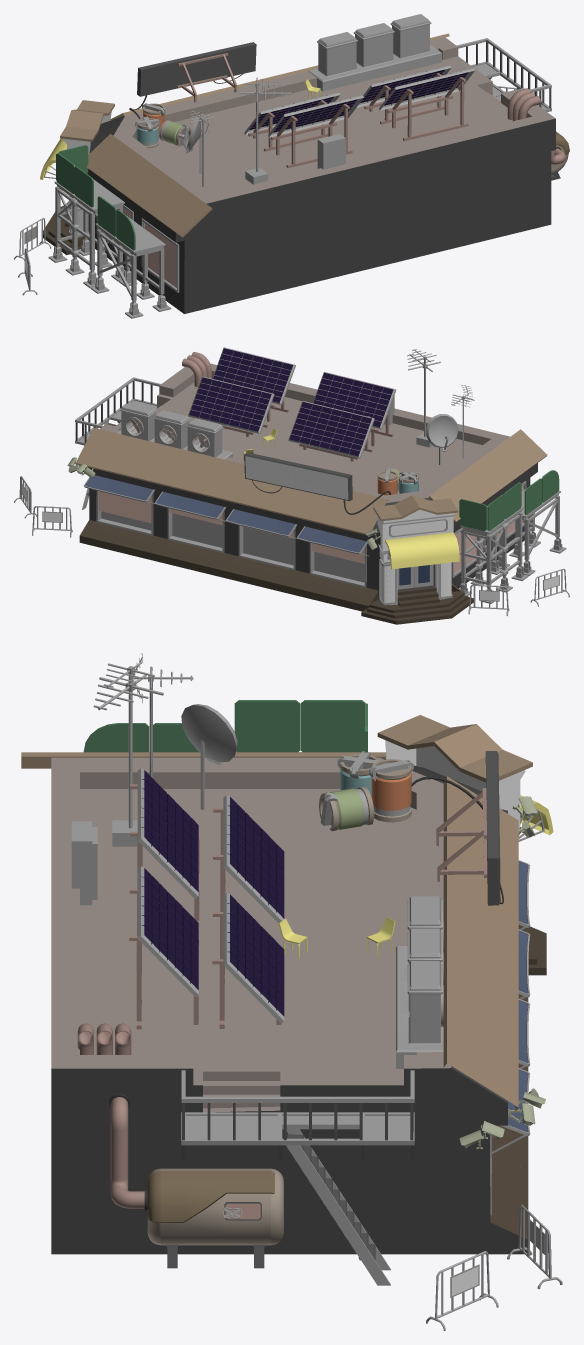
Rendered from Magazin.fbx.
3 views of the same model, one above another, from view 1: azimuth 30°, elevation 25°; view 2: azimuth 150°, elevation 25°; view 3: azimuth 270°, elevation 25° (orthographic). The views are drawn at different scales.
Visible parts, largest first — view 1: STORE, ventilation.002, scaffolding.002, scaffolding.001, billboard.002, Solar.003, Solar.002, stairs.004, Solar, Solar.001, electro, antenna.002 (+6 smaller); view 2: STORE, scaffolding.002, ventilation.002, Solar.001, Solar, billboard.002, Solar.002, Solar.003, scaffolding.001, Naves.001, stairs.004, Naves.004 (+14 smaller); view 3: STORE, cistern, stairs.004, ventilation.002, scaffolding.002, Solar.003, Solar, Solar.001, Solar.002, billboard.002, scaffolding.001, antenna.001 (+9 smaller).
Part boxes in pixels (bbox=[...]): STORE: bbox=[43, 33, 555, 313]; ventilation.002: bbox=[308, 14, 441, 91]; scaffolding.002: bbox=[48, 145, 124, 288]; scaffolding.001: bbox=[90, 196, 171, 318]; billboard.002: bbox=[129, 42, 256, 119]; Solar.003: bbox=[379, 68, 474, 141]; Solar.002: bbox=[268, 95, 363, 167]; stairs.004: bbox=[456, 38, 551, 111]; Solar: bbox=[356, 65, 451, 124]; Solar.001: bbox=[244, 92, 339, 151]; electro: bbox=[317, 134, 345, 169]; antenna.002: bbox=[240, 77, 291, 184]; STORE: bbox=[76, 363, 547, 624]; scaffolding.002: bbox=[459, 482, 528, 603]; ventilation.002: bbox=[116, 402, 232, 459]; Solar.001: bbox=[288, 401, 374, 461]; Solar: bbox=[188, 376, 274, 436]; billboard.002: bbox=[244, 452, 390, 514]; Solar.002: bbox=[313, 372, 396, 446]; Solar.003: bbox=[212, 347, 295, 421]; scaffolding.001: bbox=[498, 470, 566, 575]; Naves.001: bbox=[385, 532, 459, 569]; stairs.004: bbox=[75, 377, 160, 509]; Naves.004: bbox=[155, 491, 225, 521]; STORE: bbox=[21, 715, 546, 1254]; cistern: bbox=[109, 1093, 283, 1268]; stairs.004: bbox=[181, 1070, 414, 1285]; ventilation.002: bbox=[396, 896, 443, 1068]; scaffolding.002: bbox=[234, 700, 367, 752]; Solar.003: bbox=[129, 866, 198, 1029]; Solar: bbox=[212, 893, 284, 1028]; Solar.001: bbox=[213, 795, 284, 923]; Solar.002: bbox=[130, 768, 199, 920]; billboard.002: bbox=[411, 751, 503, 905]; scaffolding.001: bbox=[83, 723, 199, 752]; antenna.001: bbox=[181, 704, 237, 809].
Bounding box in the file's own units: 3228 × 1049 × 1482.
